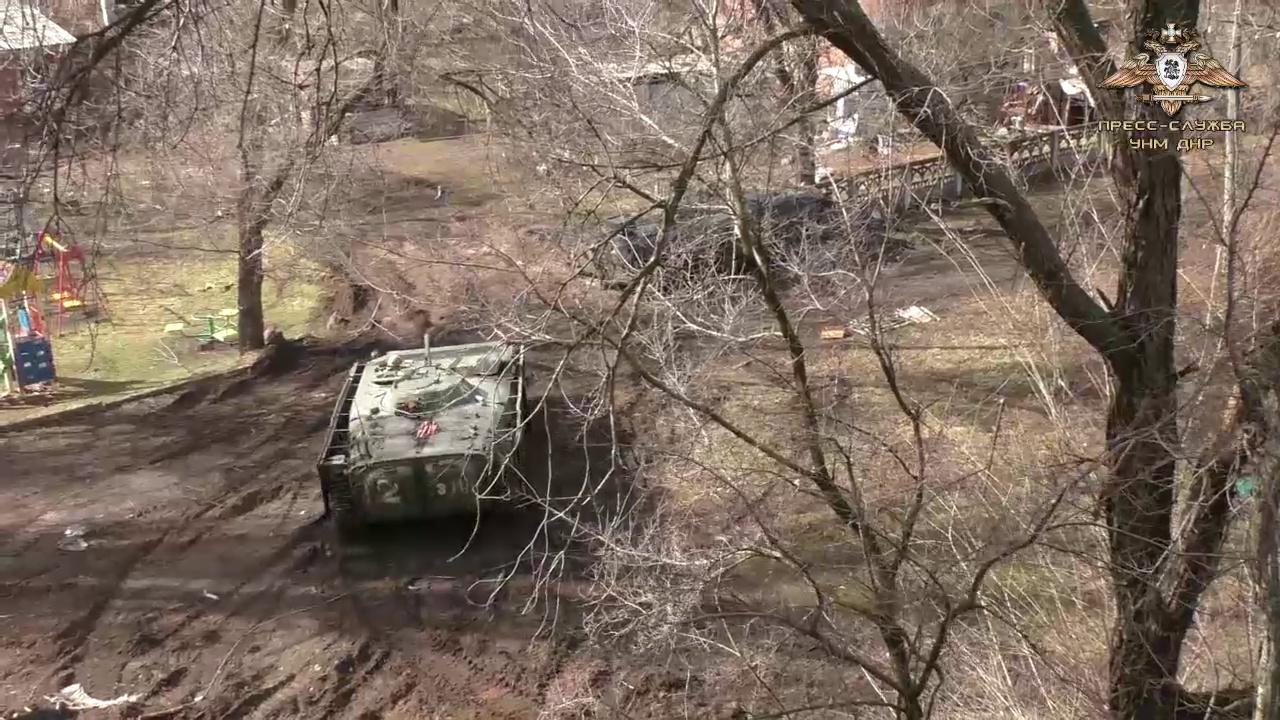tank: (317, 332, 529, 543)
